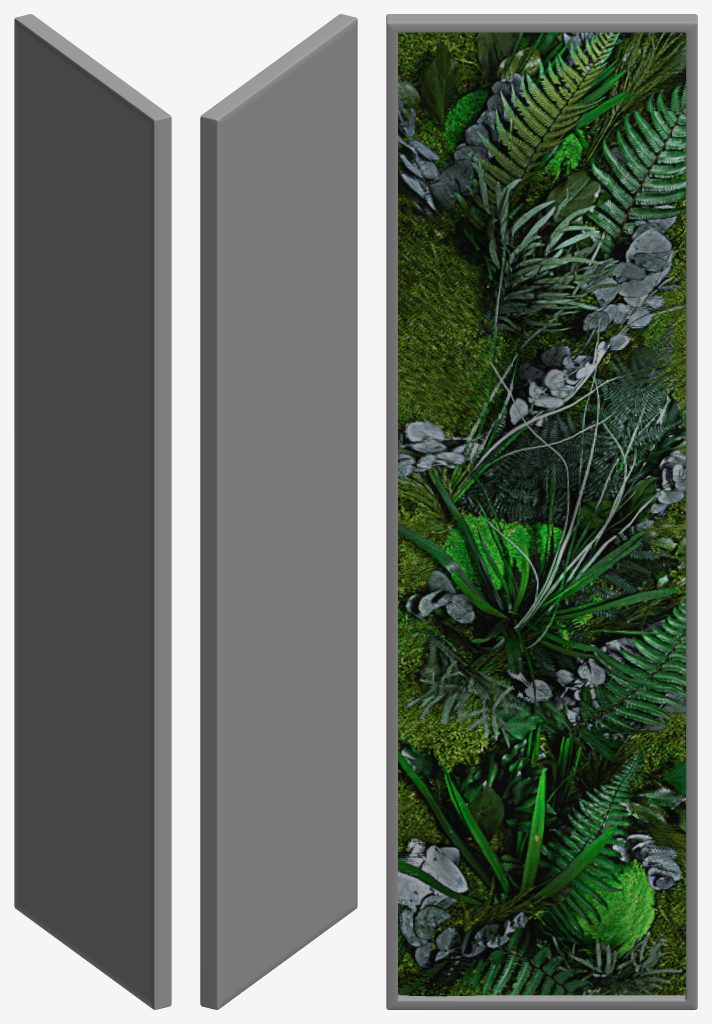
File: tablo_Dschungel_140x40_1.fbx
3 renders of one model, left to right at view 1: azimuth 30°, elevation 25°; view 2: azimuth 150°, elevation 25°; view 3: azimuth 270°, elevation 25°, orthographic. The views are drawn at different scales.
Parts seen in each view (by area): view 1: edge; view 2: edge; view 3: moss_, moss_low, edge.
Boxes of the visible parts, x1=… form: edge: x1=14, y1=14, x2=171, y2=1009; edge: x1=200, y1=14, x2=357, y2=1009; moss_: x1=398, y1=32, x2=685, y2=996; moss_low: x1=398, y1=32, x2=685, y2=995; edge: x1=386, y1=14, x2=697, y2=1009.
Size of the model in its own units: 5.94 by 140 by 40.
2 materials, 1 textured.
